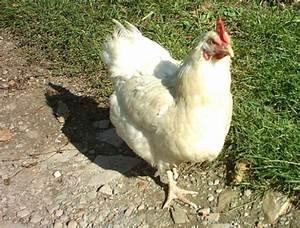hen: (99, 16, 234, 212)
